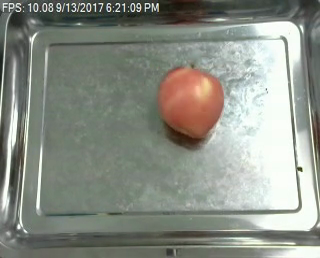Apple: (155, 65, 224, 140)
